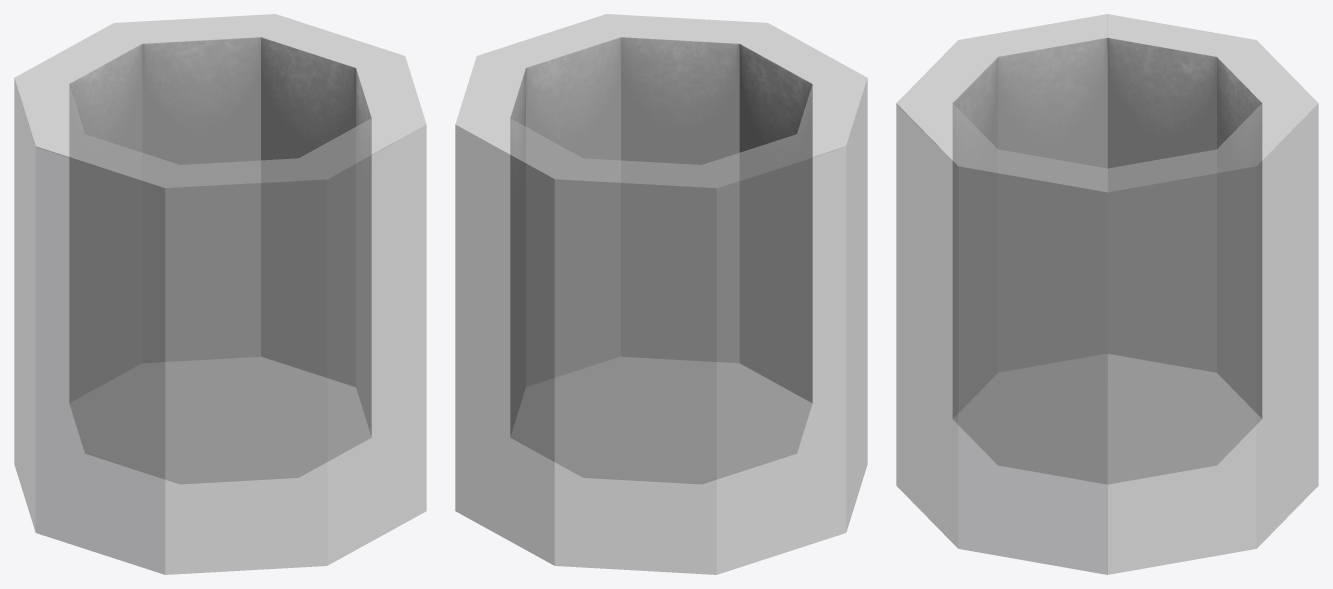
The model's file is flask1.glb.
The picture shows the model from 3 angles, left to right: view 1: azimuth 30°, elevation 25°; view 2: azimuth 150°, elevation 25°; view 3: azimuth 270°, elevation 25°; orthographic projection.
Parts seen in each view (by area): view 1: pCylinder1; view 2: pCylinder1; view 3: pCylinder1.
Part boxes in pixels (bbox=[...]): pCylinder1: bbox=[14, 14, 426, 574]; pCylinder1: bbox=[455, 14, 867, 574]; pCylinder1: bbox=[896, 14, 1318, 574].
Size of the model in its own units: 0.02 by 0.02 by 0.02.
1 material, 1 textured.
